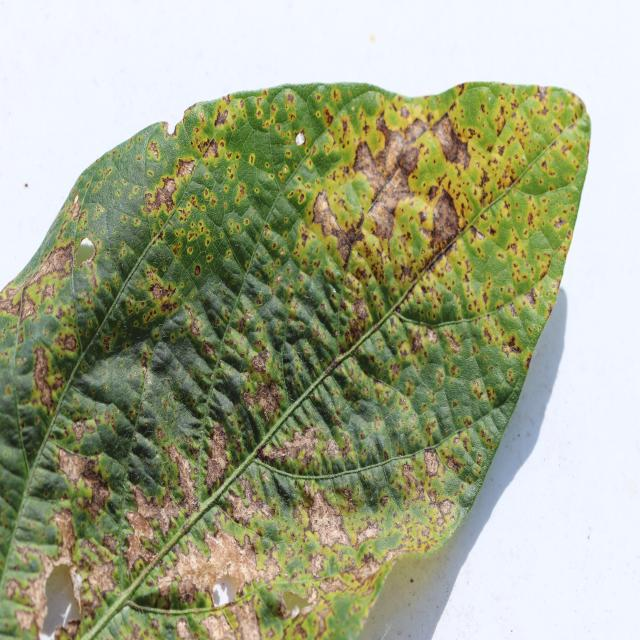Bacterial_Blight: (354, 115, 449, 260), (120, 451, 202, 578), (309, 188, 364, 251), (39, 560, 84, 637), (222, 211, 267, 276), (452, 85, 497, 146), (536, 135, 585, 190), (473, 338, 518, 394), (225, 480, 272, 529), (56, 446, 94, 494), (0, 459, 30, 518), (31, 344, 57, 412), (248, 376, 283, 425), (276, 586, 321, 622), (144, 174, 180, 216), (227, 600, 264, 638), (346, 554, 387, 587), (51, 507, 79, 553), (526, 231, 557, 271), (358, 470, 385, 509), (1, 282, 27, 319), (186, 191, 216, 223), (308, 143, 336, 177), (320, 350, 348, 382), (148, 279, 178, 308), (74, 236, 96, 268), (441, 448, 466, 476), (422, 449, 441, 478), (14, 608, 35, 634), (458, 483, 479, 509), (70, 418, 92, 442), (351, 298, 370, 325), (442, 329, 462, 354), (175, 157, 196, 180), (67, 192, 82, 220), (201, 138, 220, 160), (251, 351, 269, 374), (503, 332, 521, 352), (59, 334, 78, 352), (140, 350, 151, 380), (165, 119, 182, 138), (438, 499, 455, 517), (522, 289, 538, 308), (214, 108, 229, 128), (293, 127, 306, 148), (425, 326, 439, 344), (147, 140, 160, 158), (101, 335, 113, 353), (508, 302, 520, 318), (553, 217, 568, 229), (362, 120, 370, 135), (509, 242, 519, 253), (193, 265, 201, 276), (286, 93, 294, 104), (540, 159, 548, 169), (249, 154, 255, 165), (480, 429, 487, 438), (369, 33, 376, 42), (488, 94, 493, 102), (522, 154, 526, 161), (410, 578, 414, 584), (24, 183, 28, 188)
Soybean: (0, 82, 593, 640)
